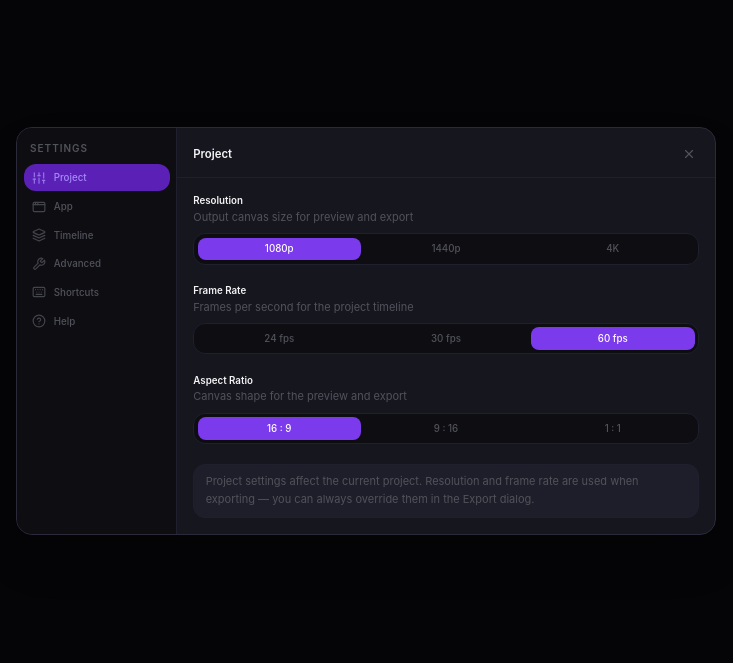
3.17 SettingsDialog › switching to Shortcuts tab shows "Playback" section heading
The width and height of the screenshot is (733, 663).
Click the button "Shortcuts" at (96, 292), box [24,279,170,306]
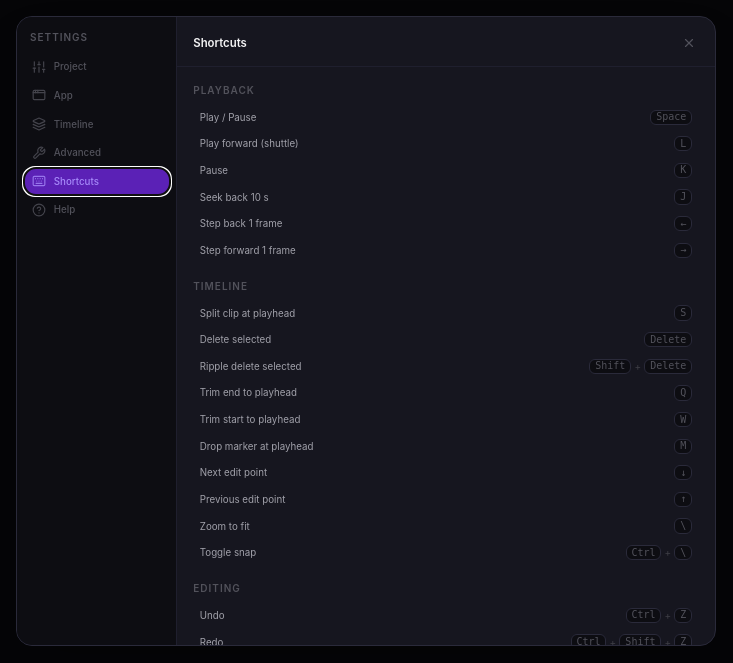
Now the text "Playback" is shown, box [193,84,255,96]
